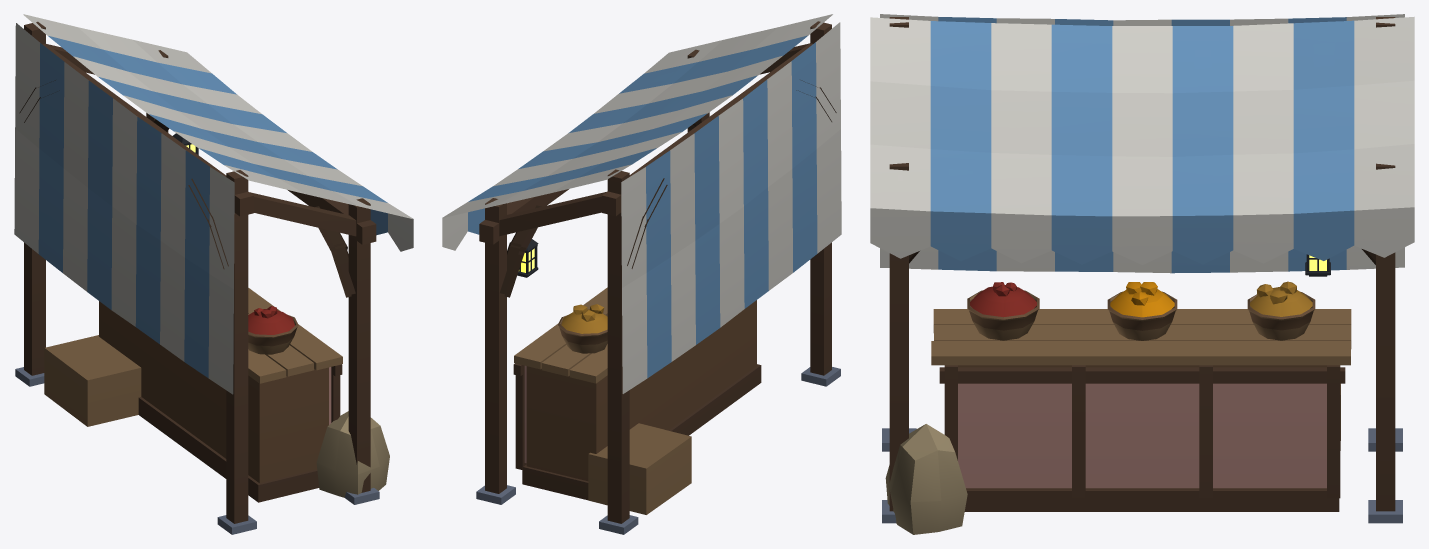
Rendered from market_stand_01.glb.
3 renders of one model, left to right at view 1: azimuth 30°, elevation 25°; view 2: azimuth 150°, elevation 25°; view 3: azimuth 270°, elevation 25°, orthographic. The views are drawn at different scales.
Parts seen in each view (by area): view 1: isl_market_stand_01; view 2: isl_market_stand_01; view 3: isl_market_stand_01.
Part boxes in pixels (<box>): isl_market_stand_01: <box>14,14,413,534</box>; isl_market_stand_01: <box>442,14,841,534</box>; isl_market_stand_01: <box>870,14,1414,534</box>.
Bounding box in the file's own units: 1.27 × 2.44 × 2.82.
